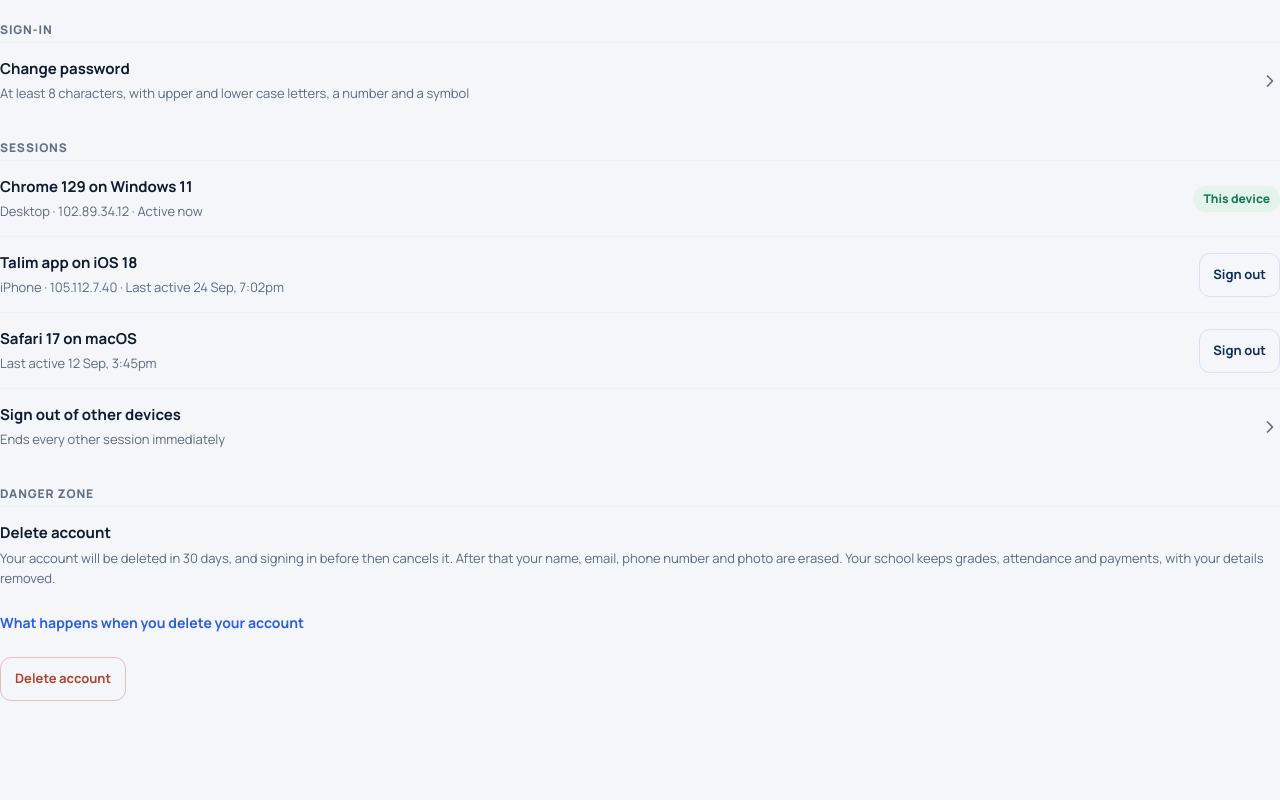
it: Security → Sessions › signs out every other device only after the confirmation
Click the button "Sign out of other devices": (90, 414) [0,389,1279,464]
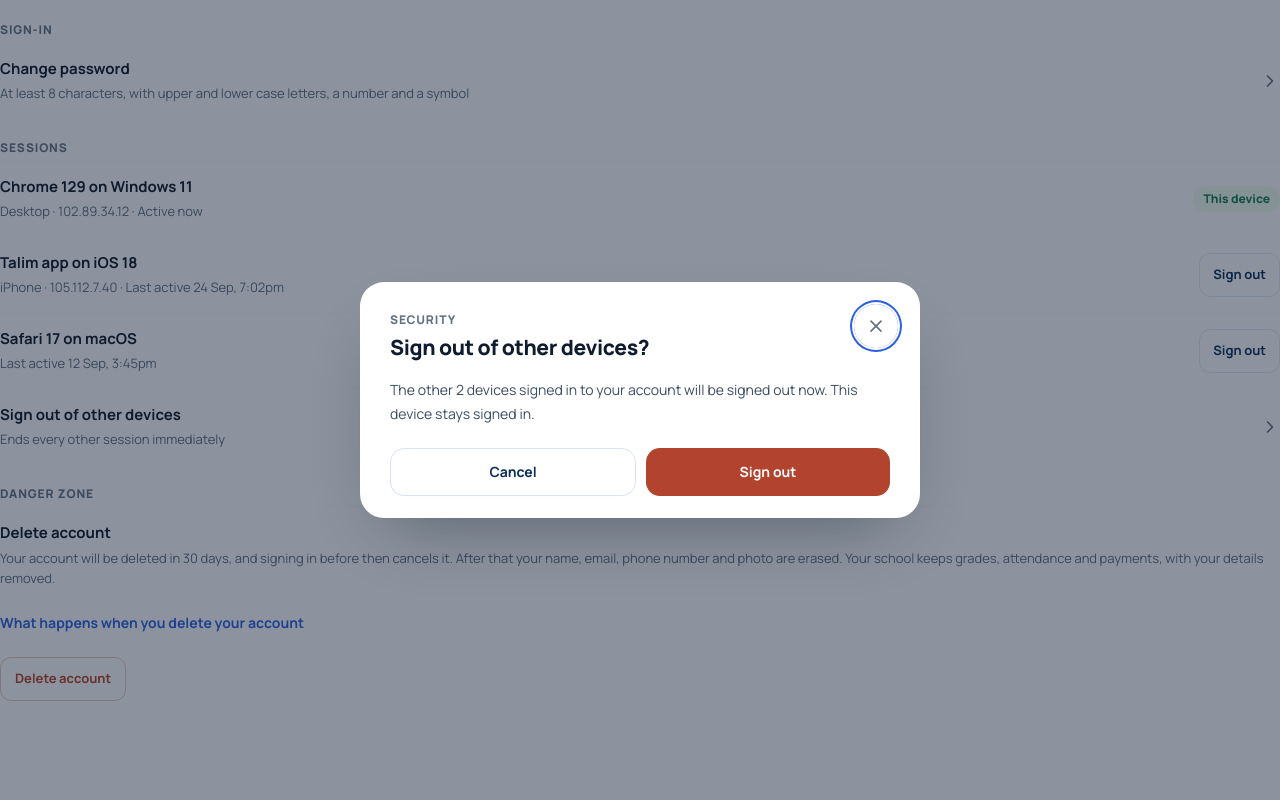
Expected: the dialog "Sign out of other devices?" shows "The other 2 devices signed in to your account will be signed out now. This device stays signed in.", [390,380,858,423]
Click the button "Cancel": (513, 472) [390,448,636,496]
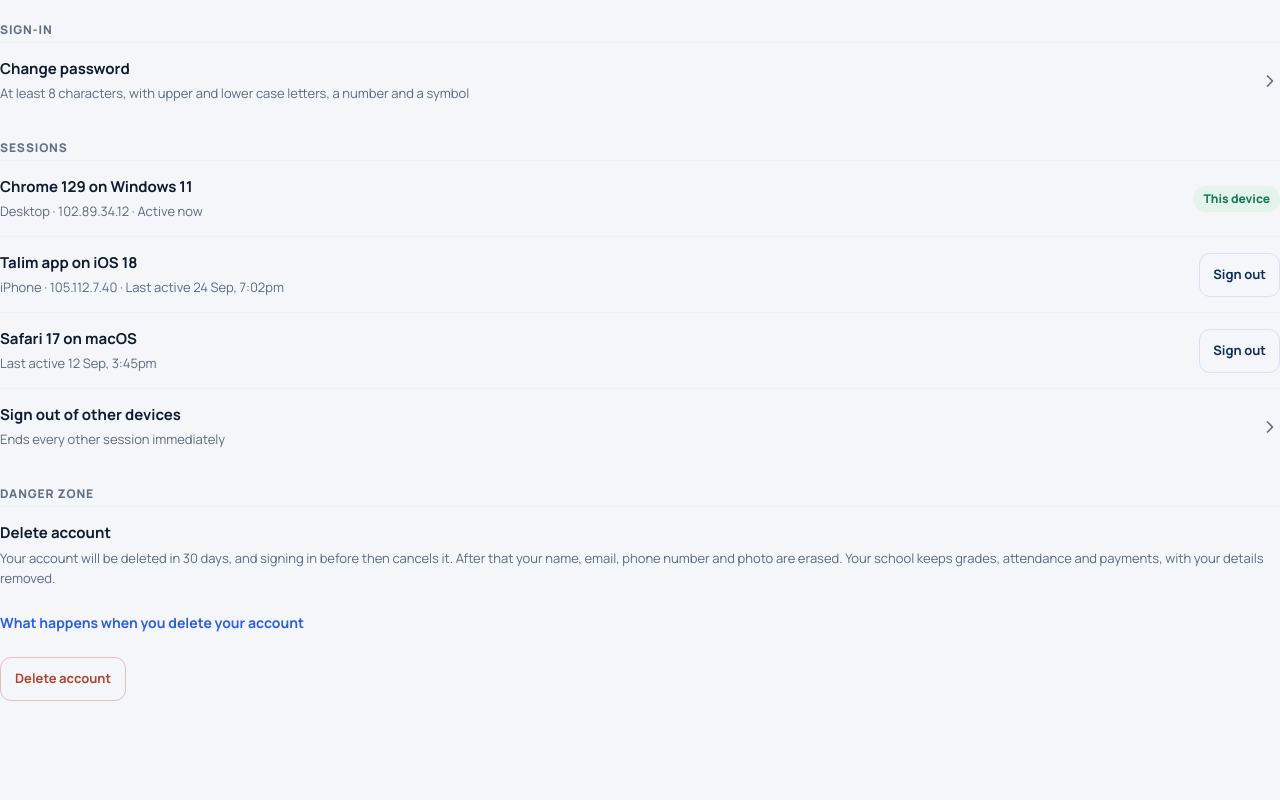
Expected: the dialog is gone
Click the button "Sign out of other devices": (90, 414) [0,389,1279,464]
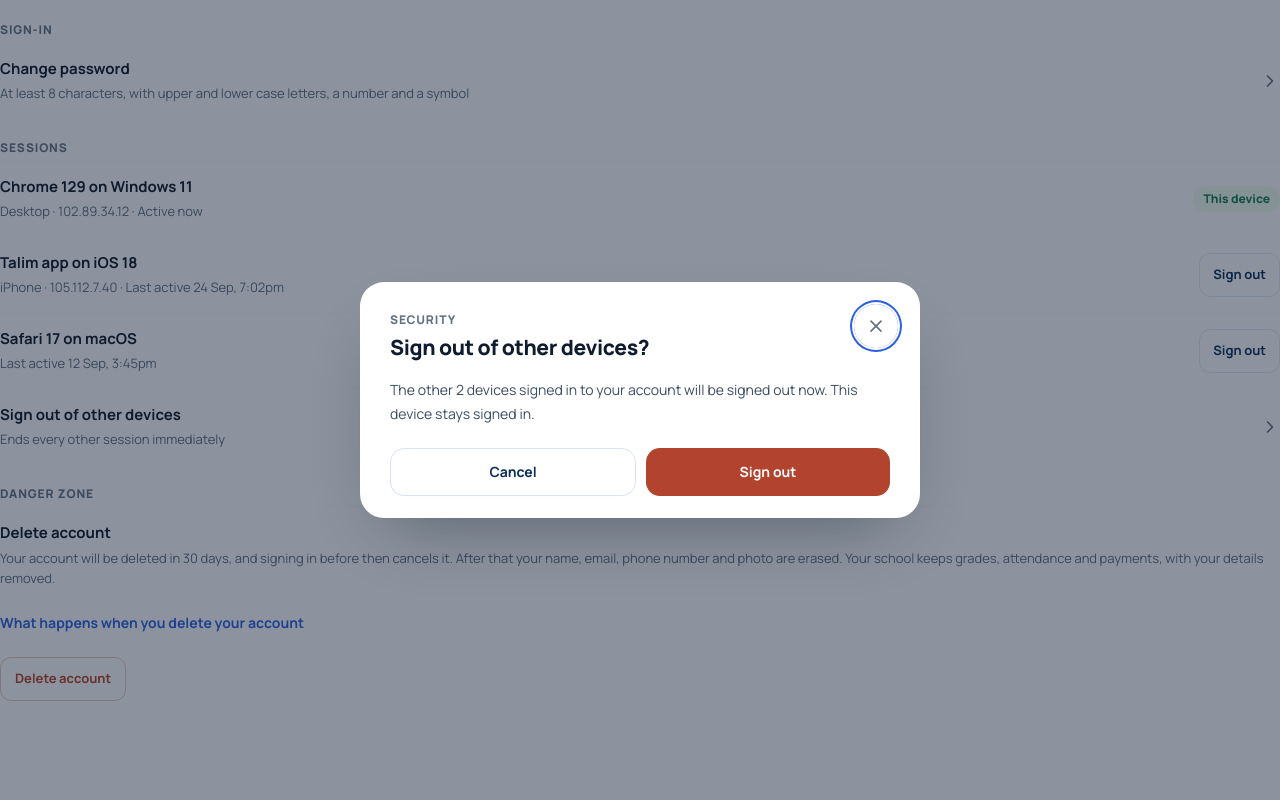
Click the button "Sign out": (768, 472) [646,448,890,496]
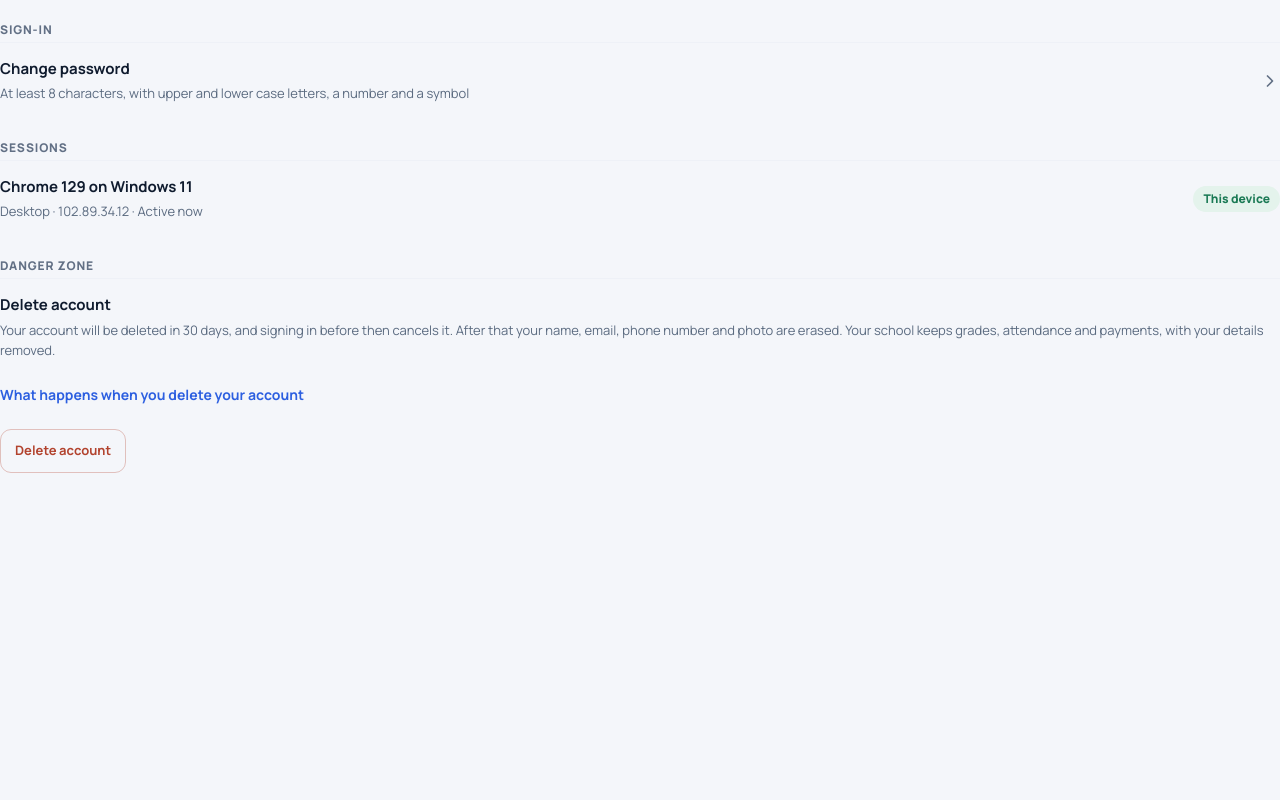
Expected: the text "Chrome 129 on Windows 11" is shown, [0,176,192,197]
Expected: the text "Talim app on iOS 18" is gone
Expected: the button "Sign out of other devices" is gone
